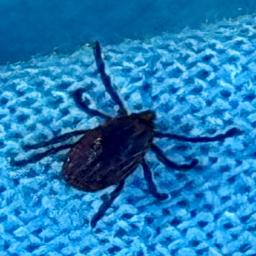Rhipicephalus sanguineus: (11, 41, 242, 228)
